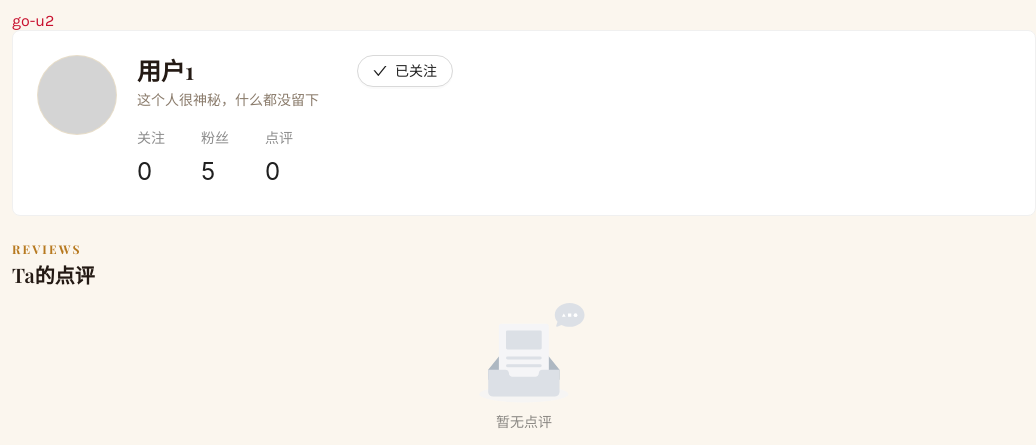
Test: FollowButton key 契约与乐观更新回滚（F1-1 / F6） › 页面级：从 /users/1 导航到 /users/2，按钮关注态跟随新用户而非残留
The width and height of the screenshot is (1036, 445).
Expected: the button "已关注" is shown, [357,55,453,87]
Click the link "go-u2". click: point(33, 20)
box: [12,11,54,30]
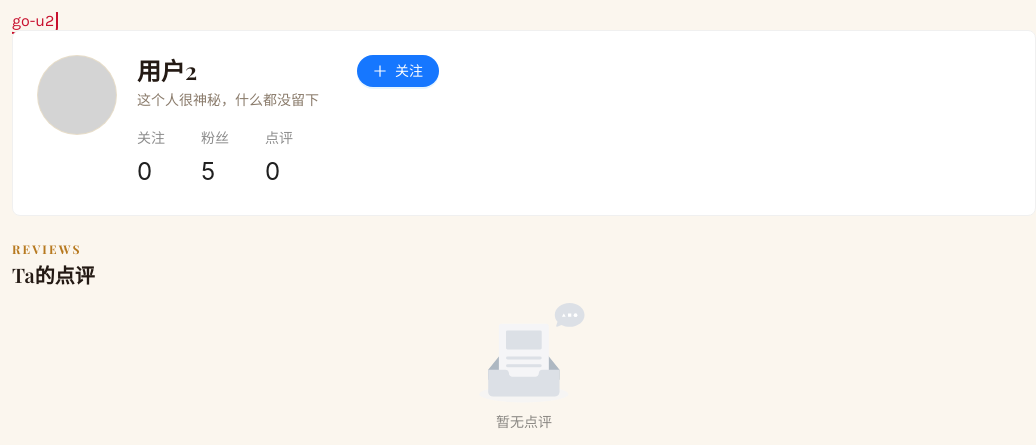
Expected: the button "关注" is shown, [357,55,439,87]
Expected: the button "已关注" is gone
